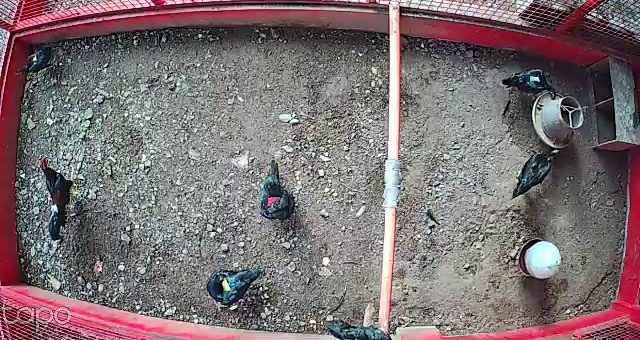Chicken: (206, 265, 269, 311), (255, 157, 299, 220), (511, 147, 560, 200), (315, 312, 392, 340), (500, 66, 559, 100), (12, 44, 58, 83)
Rooster: (35, 156, 84, 245)
Saddle_Color_Red: (265, 196, 282, 206)
Saddle_Color_Yellow: (220, 276, 233, 294), (32, 54, 38, 64)
